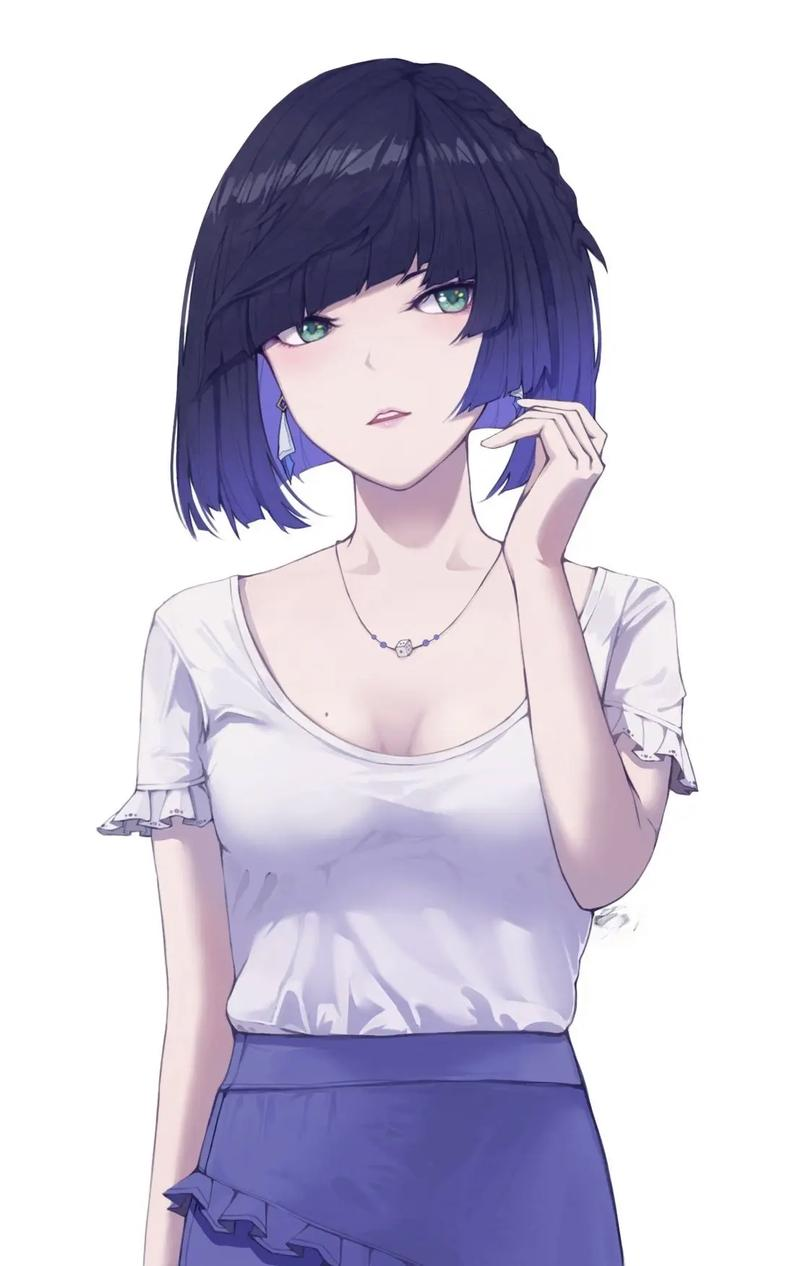夜兰: (99, 63, 703, 1266)
